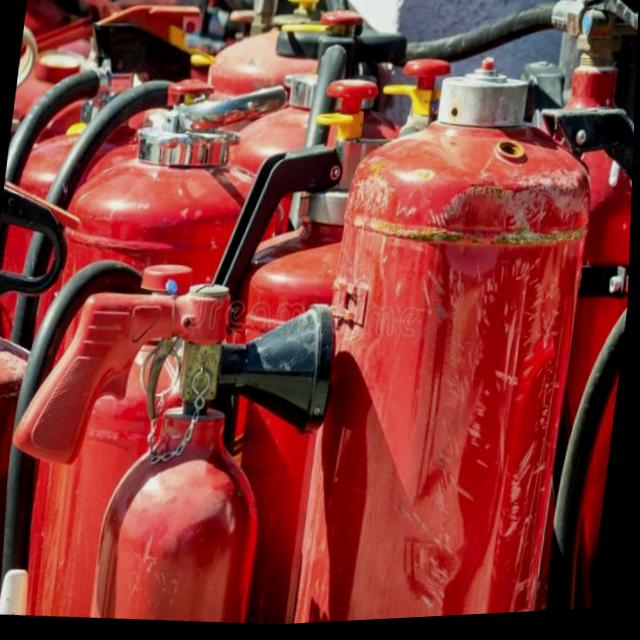FireExtinguisher: (281, 43, 622, 628), (166, 59, 493, 632), (0, 58, 322, 636), (0, 243, 353, 640), (514, 117, 636, 618), (0, 153, 84, 616)
